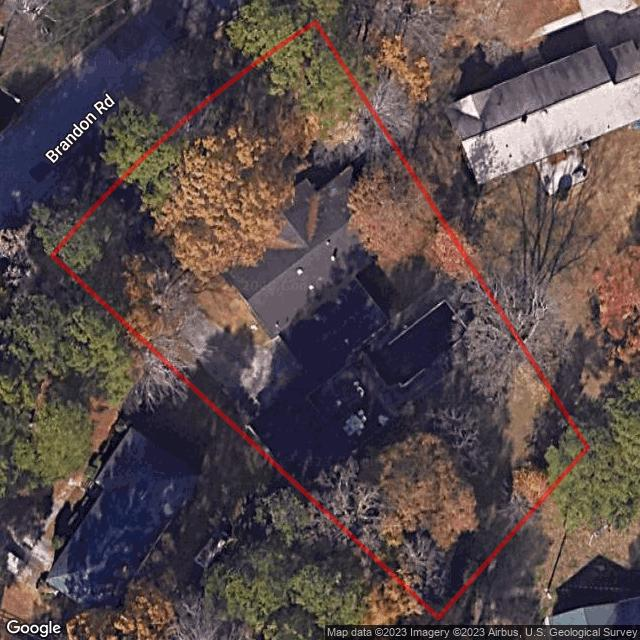Driveway: (86, 199, 306, 422)
House: (209, 152, 408, 381)
Other: (257, 394, 349, 485), (371, 300, 465, 387), (310, 361, 402, 447)
